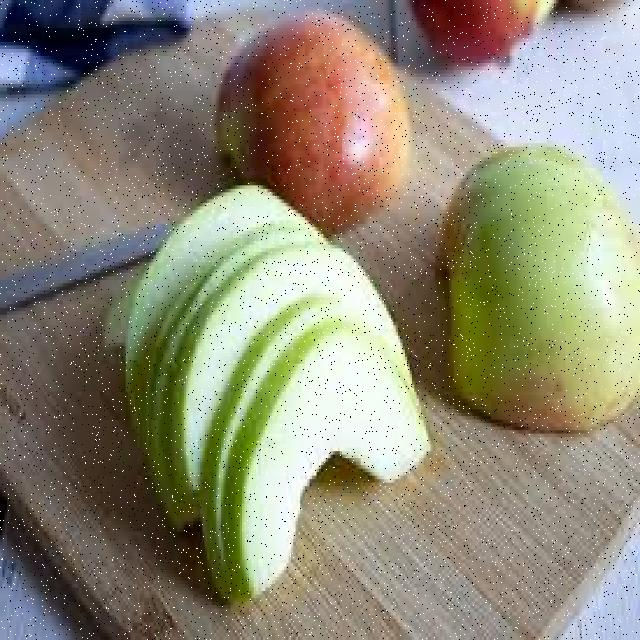Apple: (223, 318, 427, 599), (444, 146, 639, 427), (217, 12, 410, 214)
